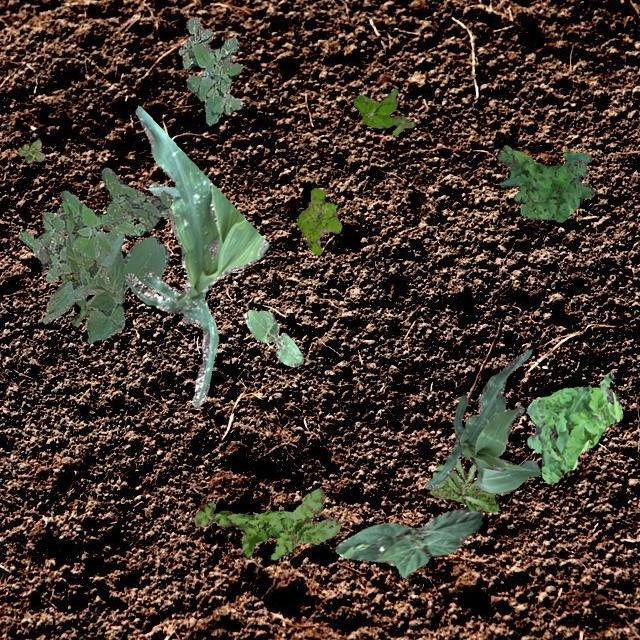crop: (124, 105, 268, 406), (424, 348, 540, 494), (41, 230, 168, 342), (334, 506, 482, 576), (242, 308, 302, 366)
weed: (19, 190, 170, 282), (526, 372, 622, 482), (192, 488, 340, 558), (496, 144, 594, 220), (178, 15, 242, 124), (100, 168, 170, 230), (428, 469, 498, 512), (296, 186, 340, 254), (352, 88, 414, 134), (59, 272, 92, 324), (432, 458, 476, 488), (17, 138, 44, 162)
